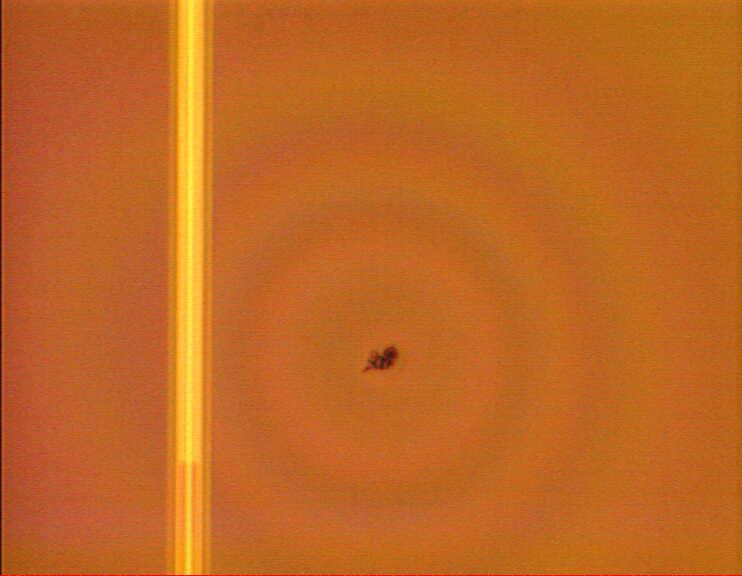PIQ PARTICLE: (355, 334, 407, 386)
